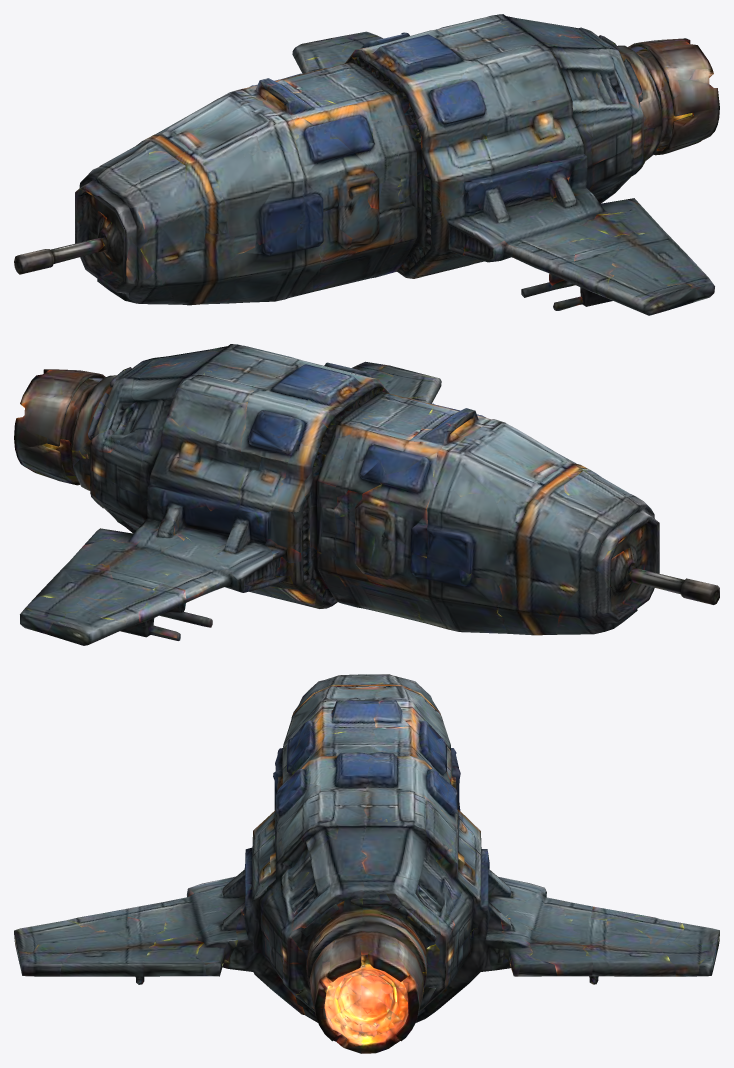
Rendered from Terran_Fighter.glb.
3 renders of one model, top to bottom at view 1: azimuth 30°, elevation 25°; view 2: azimuth 150°, elevation 25°; view 3: azimuth 270°, elevation 25°, orthographic.
Bounding box in the file's own units: 1.9 × 0.5557 × 1.71.
Materials: 1 (1 with a texture image).
